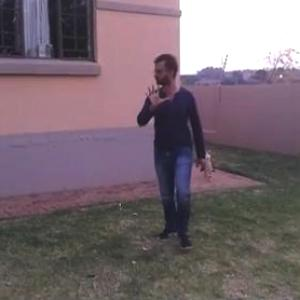follow_hand: (142, 79, 169, 108)
